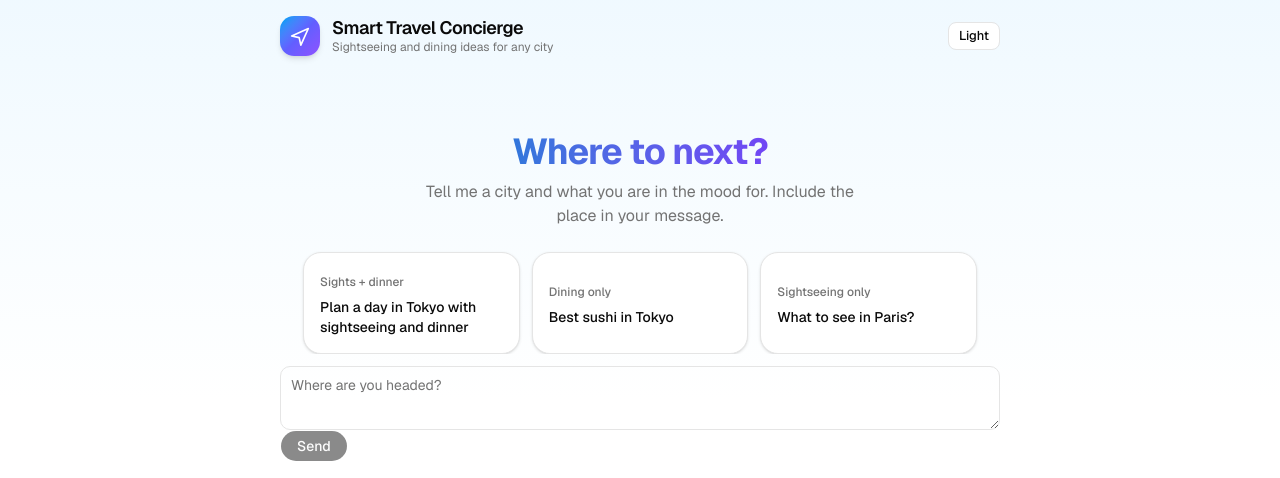
Test: Chat › does not crash on an unknown component type
This screenshot has width=1280, height=478.
Step 1. Click the button "Dining only Best sushi in Tokyo" → click(640, 303), box [532,252,748,354]
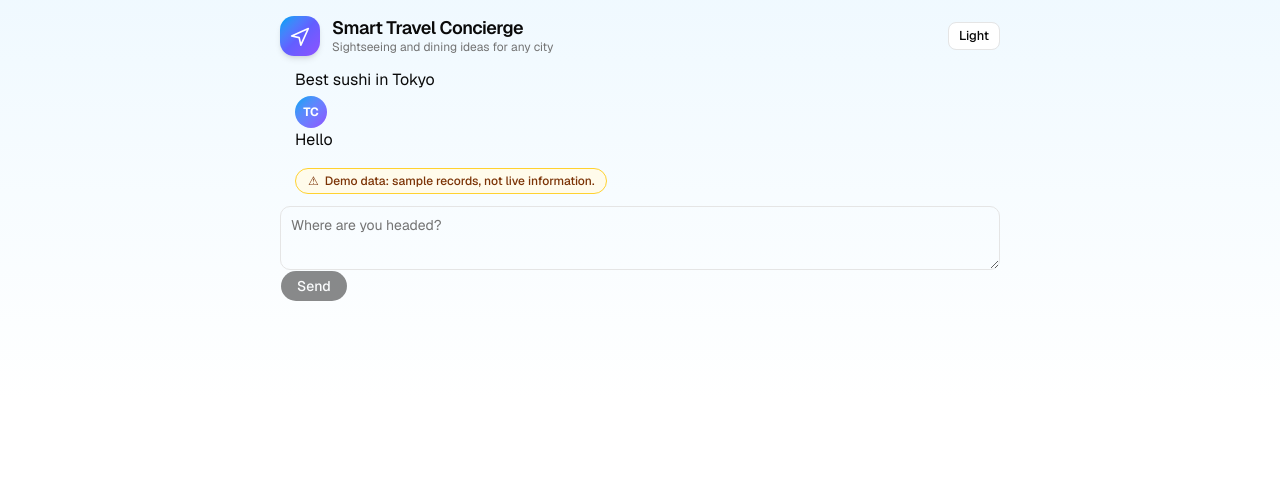
Expected: the text "Hello" is shown, [295,129,333,150]
